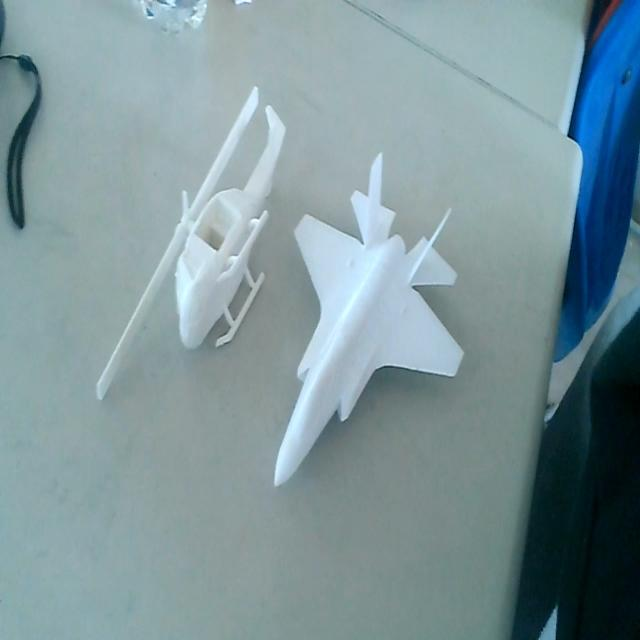Helicopter: (94, 79, 288, 411)
Jet: (275, 150, 467, 494)
